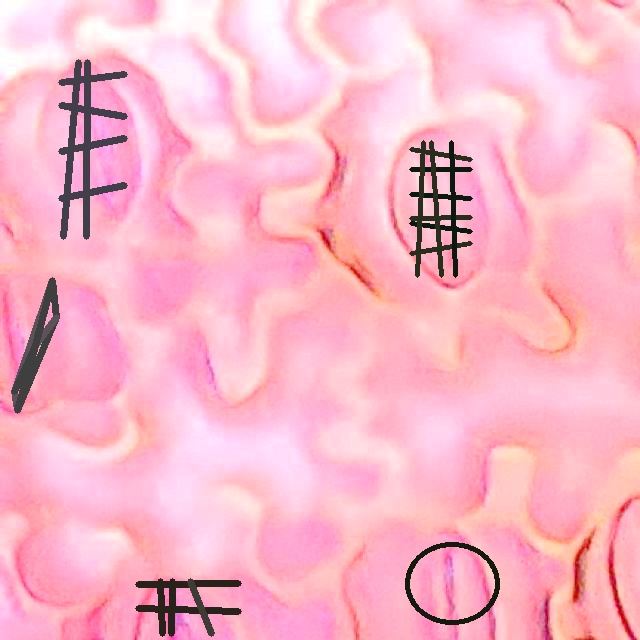close: (409, 140, 472, 277)
open: (58, 59, 127, 239), (404, 542, 499, 624), (11, 278, 59, 412), (135, 578, 241, 636)
